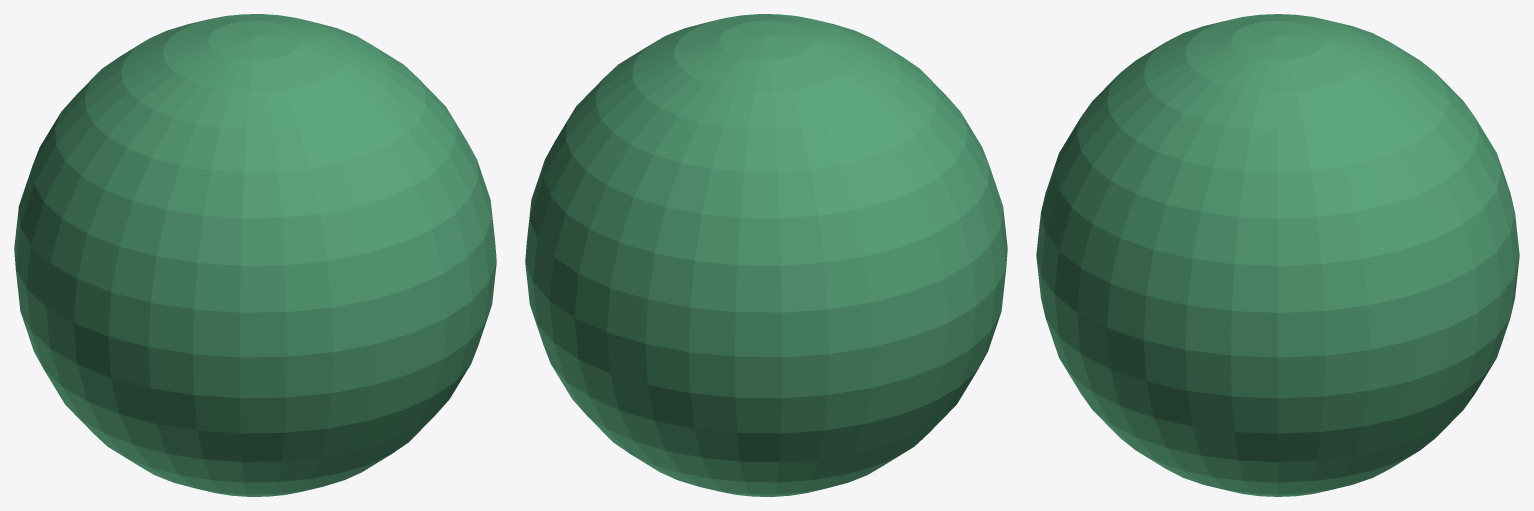
Rendered from ResultStage.gltf.
The picture shows the model from 3 angles, left to right: view 1: azimuth 30°, elevation 25°; view 2: azimuth 150°, elevation 25°; view 3: azimuth 270°, elevation 25°; orthographic projection.
Parts seen in each view (by area): view 1: 球; view 2: 球; view 3: 球.
Part boxes in pixels (x1=…): 球: x1=14, y1=14, x2=496, y2=496; 球: x1=525, y1=14, x2=1007, y2=496; 球: x1=1036, y1=14, x2=1519, y2=496.
Size of the model in its own units: 67 by 67 by 67.
